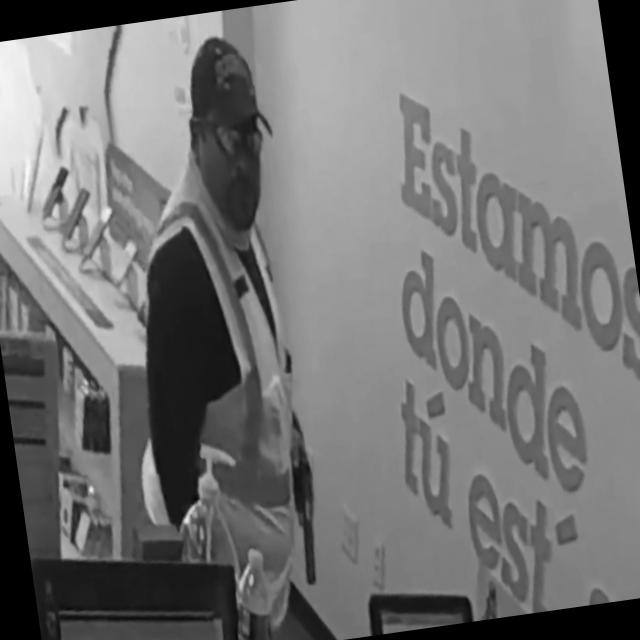gun: (280, 419, 330, 590)
person with a gun: (82, 29, 336, 640)
